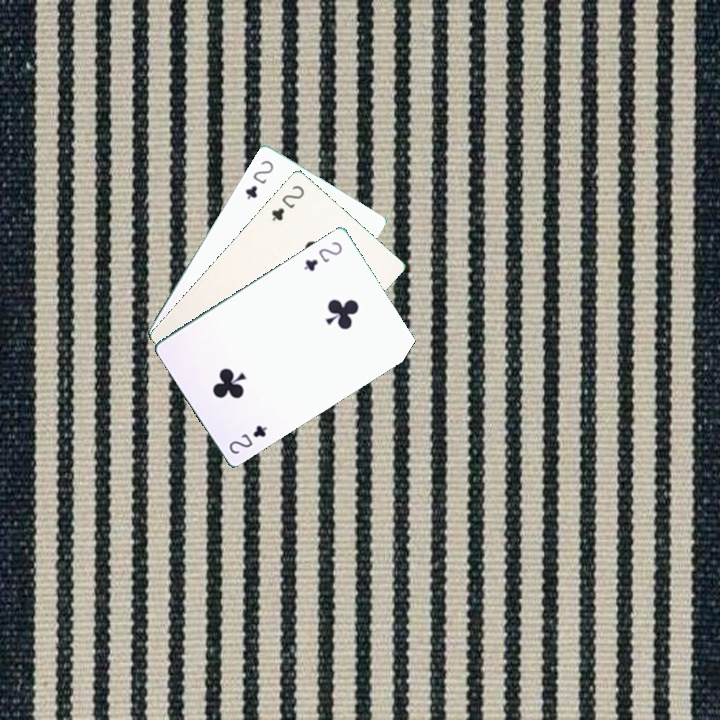2c: (267, 181, 307, 224), (300, 237, 345, 274), (225, 421, 270, 457), (241, 156, 276, 202)
